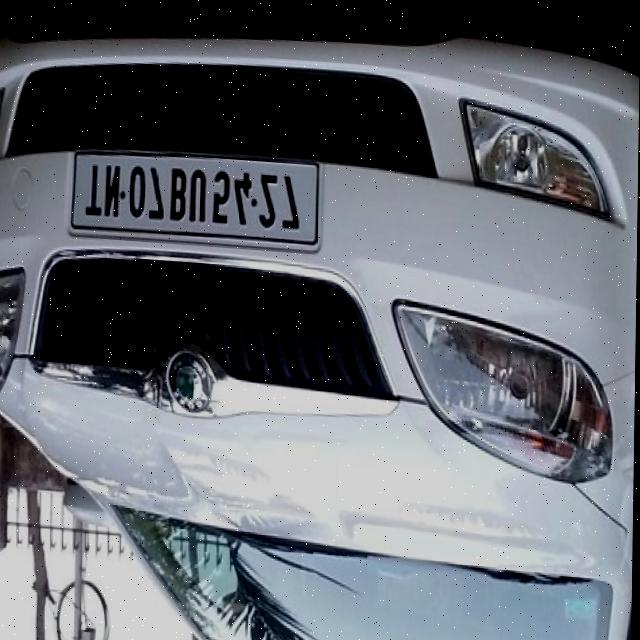plate: (72, 146, 319, 241)
